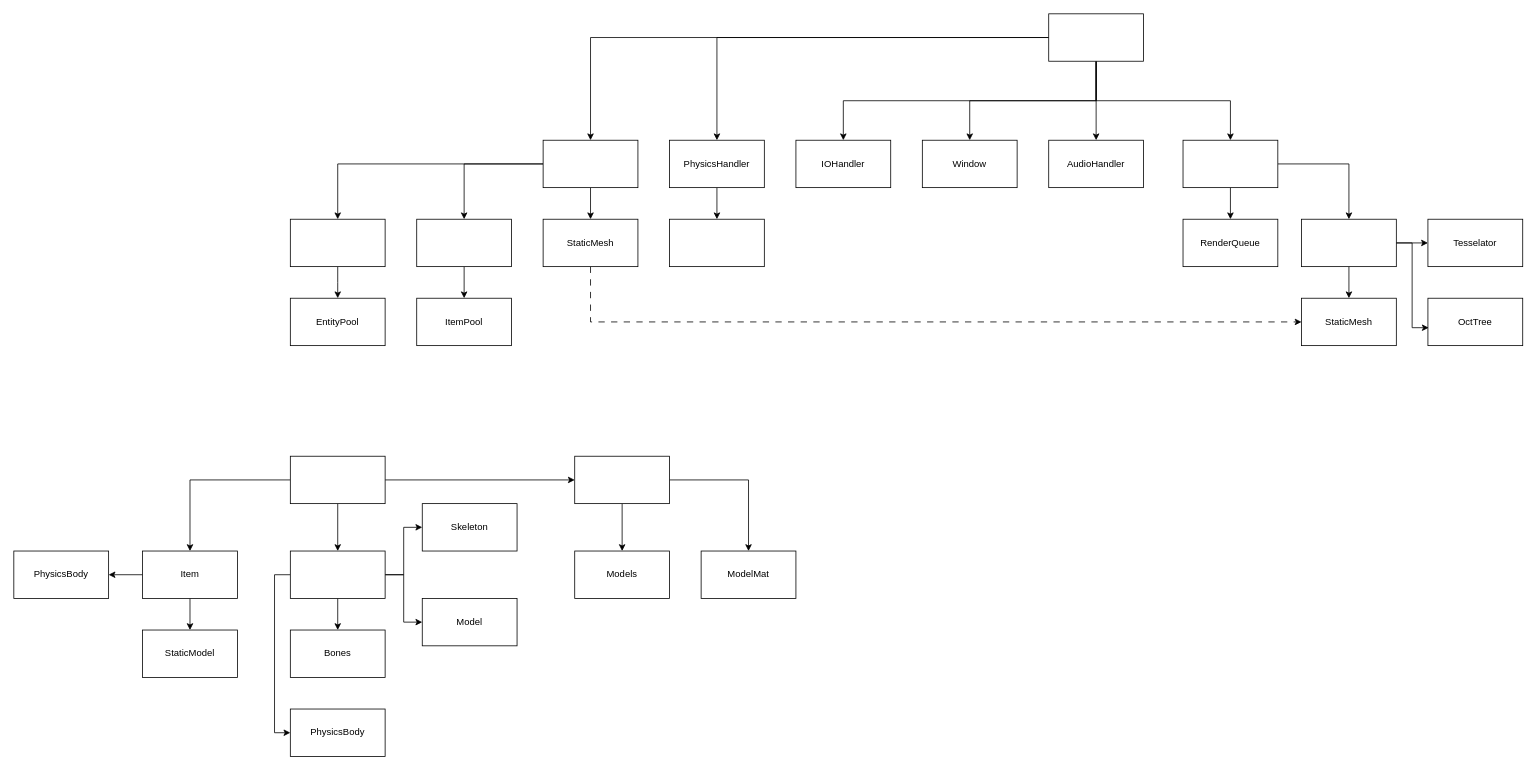
This 1537x770 diagram has some shape labels left out. The centre of each missing label's shape, as x and y in pixels:
"Engine" goes at (1096,37).
"EngineTypes" goes at (337,479).
"Entities" goes at (337,242).
"Entity" goes at (337,574).
"Items" goes at (464,242).
"MeshRenderer" goes at (1348,242).
"Renderer" goes at (1230,163).
"RenderObject" goes at (622,479).
"UpdateQueue" goes at (716,242).
"World" goes at (590,163).
